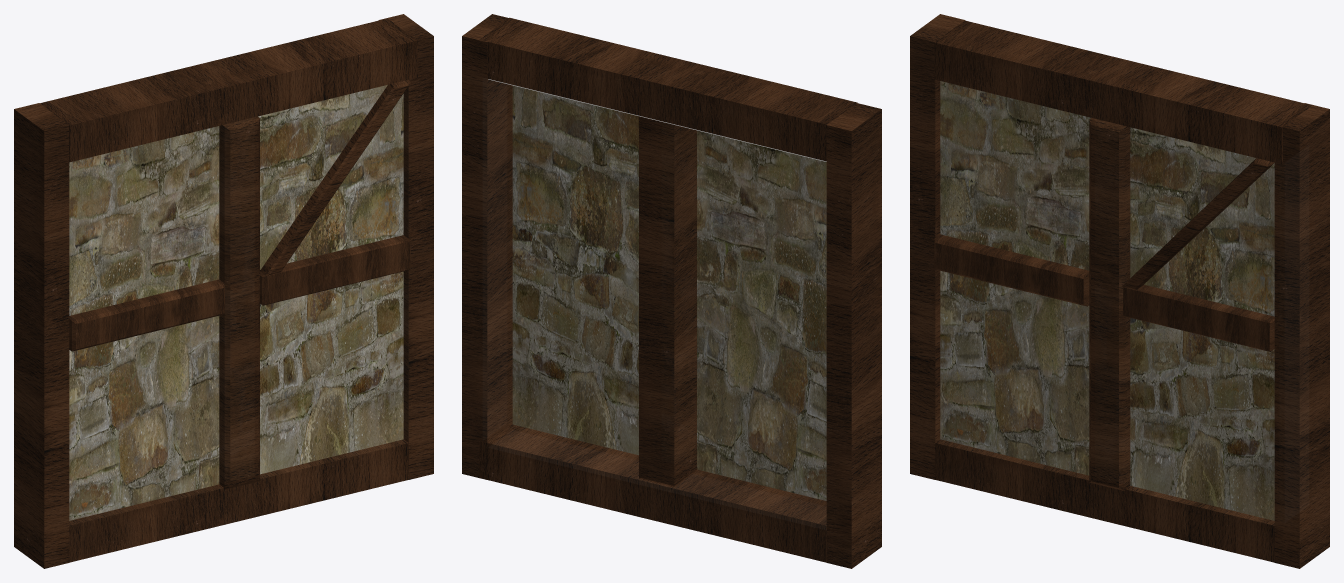
Rendered from BuildingWallTile3.fbx.
The picture shows the model from 3 angles, left to right: view 1: azimuth 30°, elevation 25°; view 2: azimuth 150°, elevation 25°; view 3: azimuth 330°, elevation 25°; orthographic projection.
Parts seen in each view (by area): view 1: BuildingWallTile3; view 2: BuildingWallTile3; view 3: BuildingWallTile3.
Boxes of the visible parts, box(x1,y1,x2,y2) form: BuildingWallTile3: box(14, 14, 433, 568); BuildingWallTile3: box(462, 14, 881, 568); BuildingWallTile3: box(910, 14, 1329, 568).
Bounding box in the file's own units: 3.73 × 4.01 × 0.601.
Materials: 3 (2 with a texture image).
